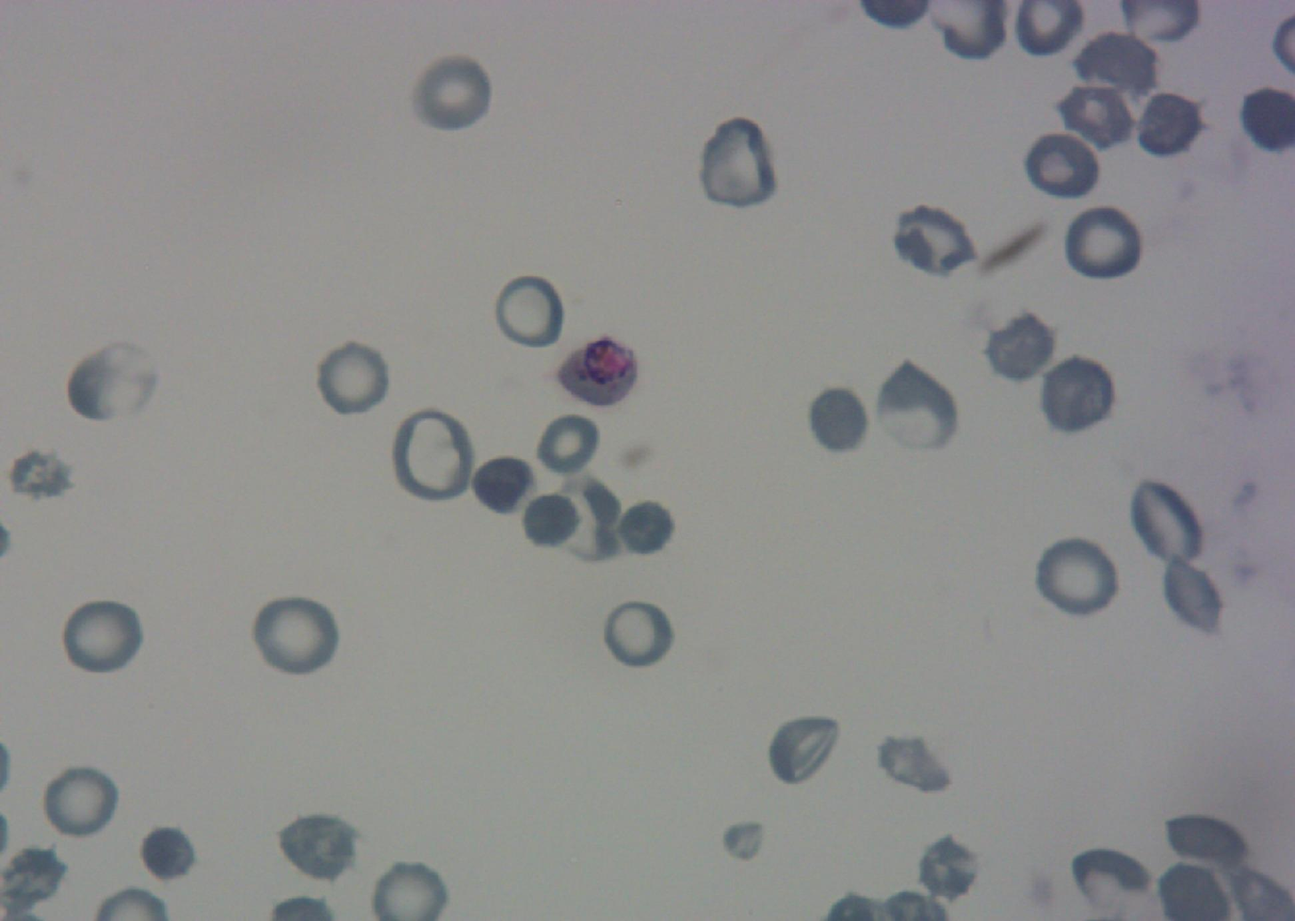Infected: (549, 337, 640, 408)
Uninfected: (870, 361, 962, 460), (387, 407, 478, 505), (695, 115, 783, 214), (1122, 473, 1209, 572), (64, 339, 160, 428), (248, 593, 344, 681), (1031, 533, 1122, 621), (408, 51, 496, 137), (58, 595, 147, 679), (1063, 843, 1156, 920), (1160, 808, 1254, 884), (1060, 201, 1146, 284), (310, 337, 393, 421), (39, 761, 123, 842), (890, 201, 977, 279), (1035, 353, 1116, 436), (488, 272, 568, 356), (596, 593, 679, 672), (1052, 80, 1138, 154), (1020, 129, 1102, 206), (765, 711, 847, 788), (1072, 25, 1151, 103), (980, 310, 1059, 387), (1154, 559, 1230, 637), (270, 811, 356, 879), (1130, 86, 1207, 160), (867, 734, 957, 796), (0, 845, 73, 912), (915, 835, 981, 904), (808, 385, 870, 457), (133, 823, 199, 889), (1, 448, 77, 503), (471, 455, 539, 516), (535, 414, 601, 475), (616, 499, 678, 558), (518, 492, 580, 551), (717, 812, 775, 870)
